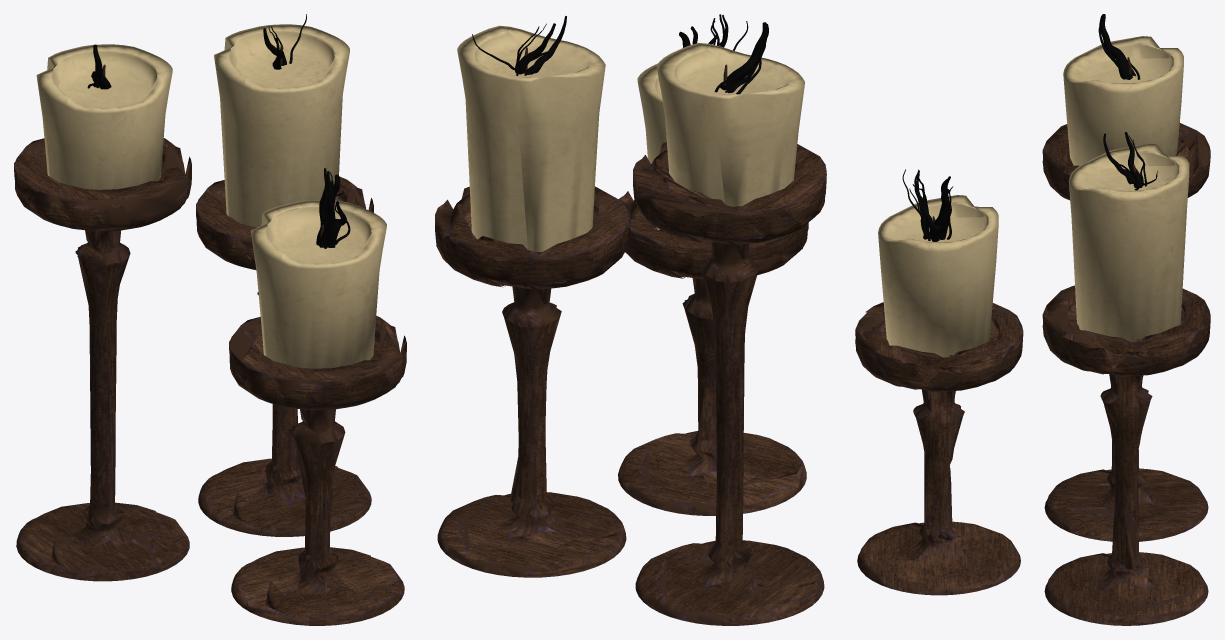
Rendered from candle 9.obj.
3 views of the same model, side by side, from view 1: azimuth 30°, elevation 25°; view 2: azimuth 150°, elevation 25°; view 3: azimuth 270°, elevation 25° (orthographic). The views are drawn at different scales.
Visible parts, largest first — view 1: directionalLight2; view 2: directionalLight2; view 3: directionalLight2.
Boxes of the visible parts, x1,y1,x2,y2 form: directionalLight2: (14, 14, 406, 625); directionalLight2: (435, 14, 826, 625); directionalLight2: (855, 14, 1210, 625).
Size of the model in its own units: 4.11 by 5.98 by 3.99.
Materials: 6 (3 with a texture image).
